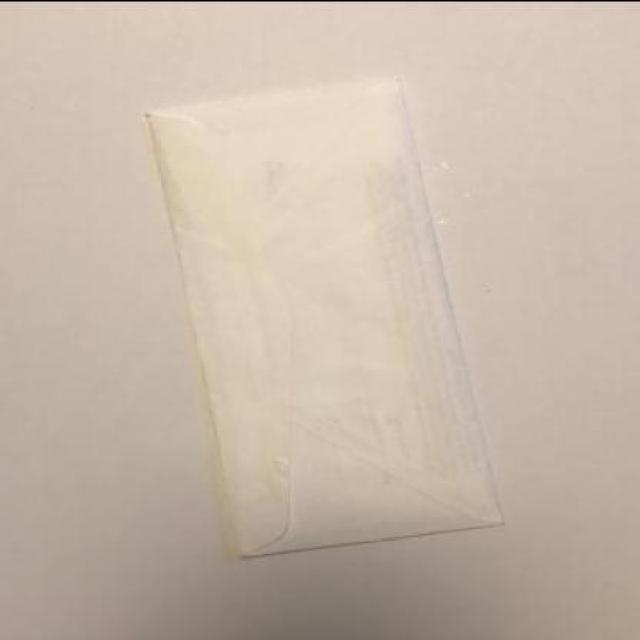PAPER: (147, 76, 507, 555)
